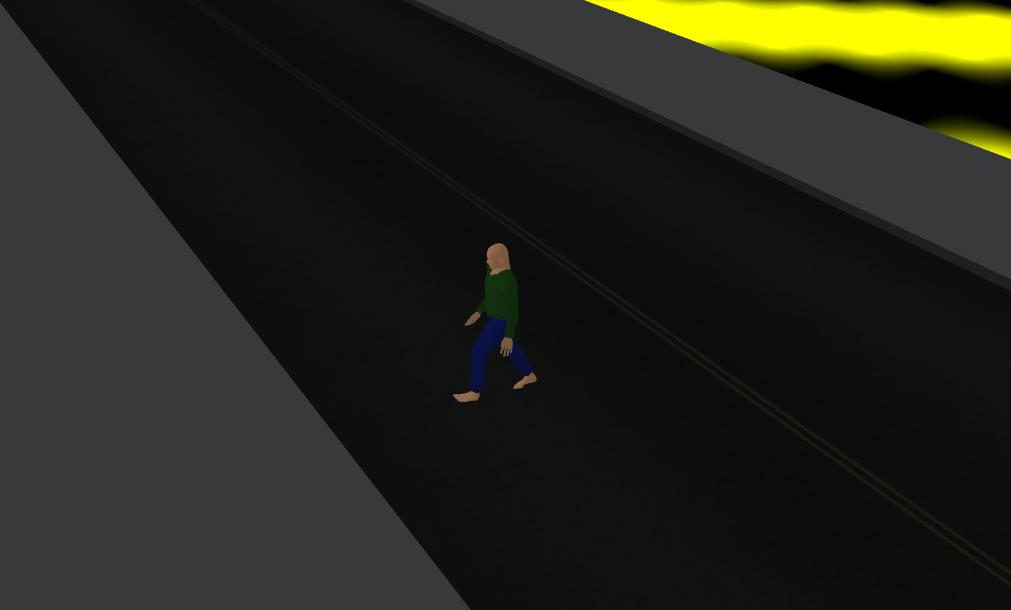human: (435, 231, 555, 423)
